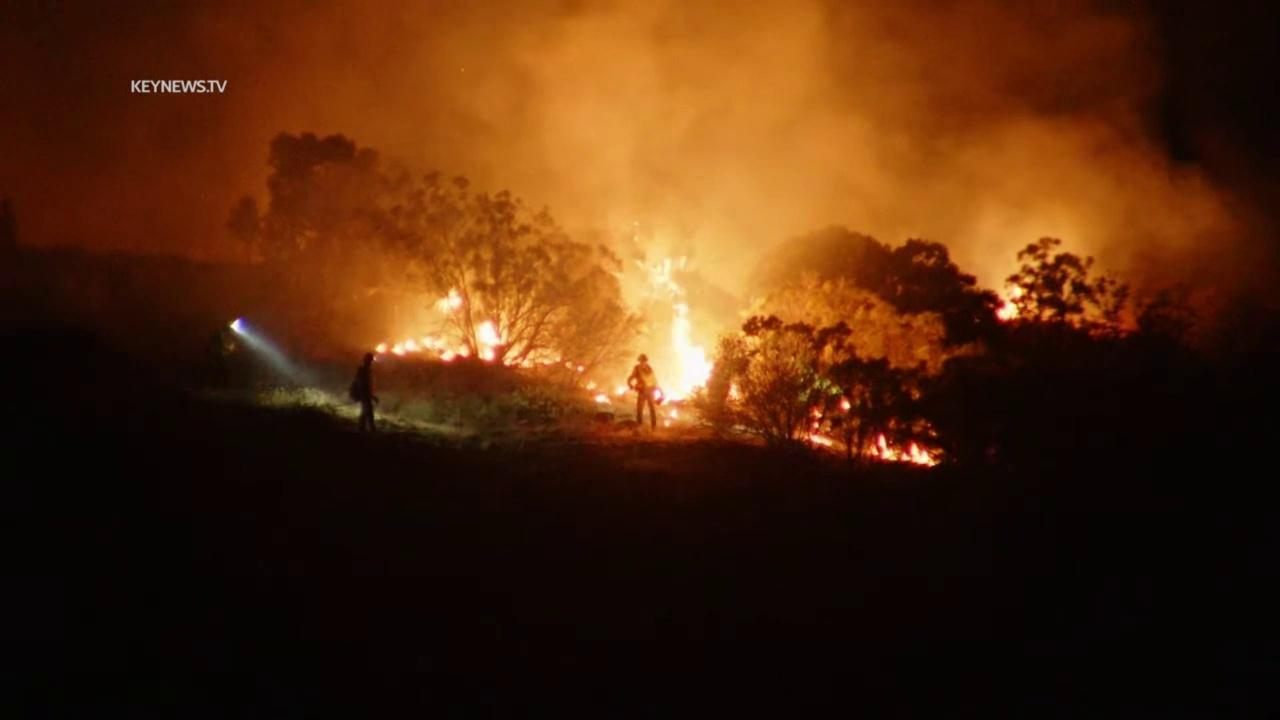fire: (639, 254, 739, 405), (373, 335, 457, 367), (866, 433, 937, 467), (459, 320, 507, 364), (992, 285, 1023, 324), (430, 286, 464, 314), (802, 431, 834, 451), (661, 407, 682, 429), (808, 405, 825, 429), (616, 383, 632, 398), (838, 396, 853, 411), (594, 393, 611, 406), (575, 362, 586, 374)
smoke: (0, 0, 1280, 343)
